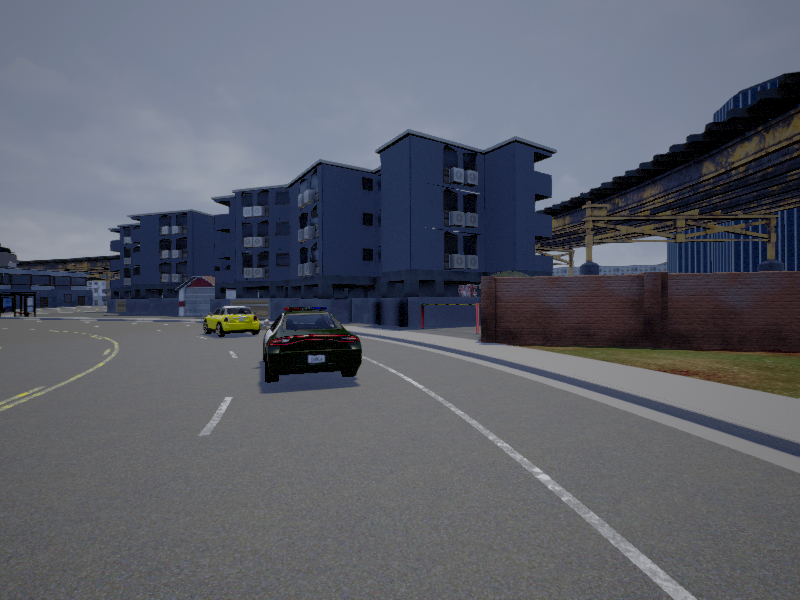Benign: (262, 308, 363, 381), (203, 304, 260, 335)
